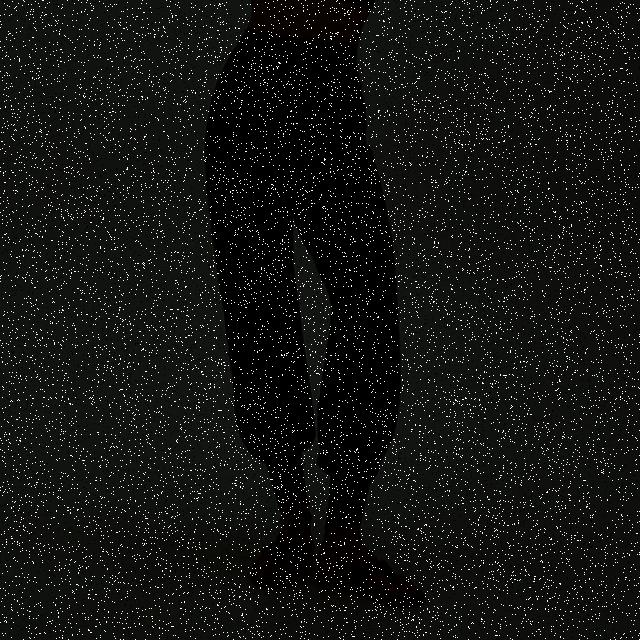dress: (208, 27, 402, 521)
